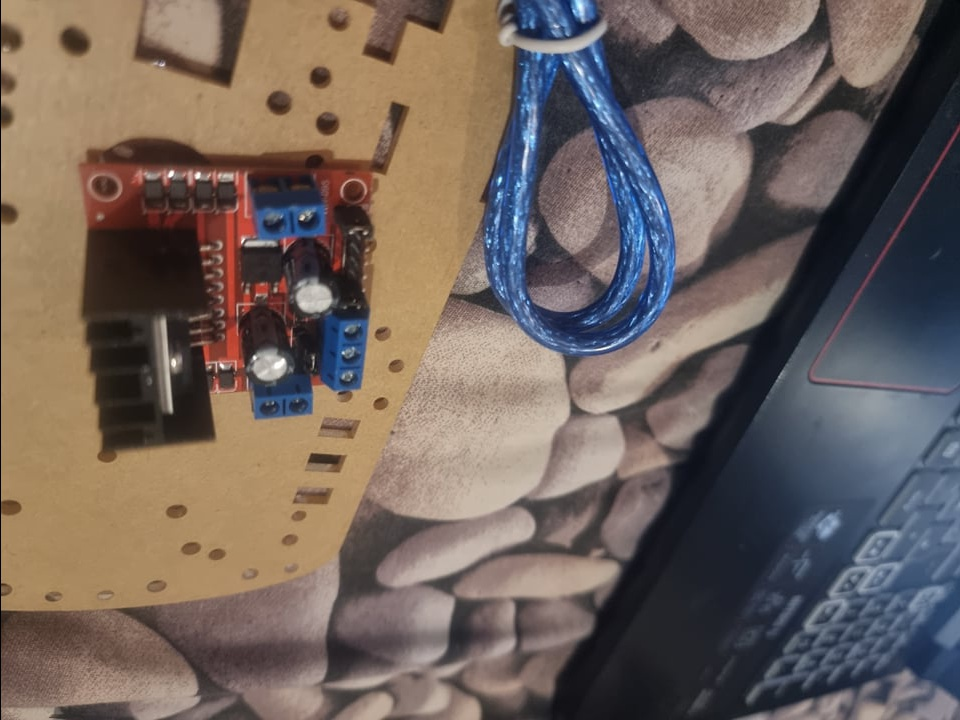MOTOR: (75, 156, 374, 460)
